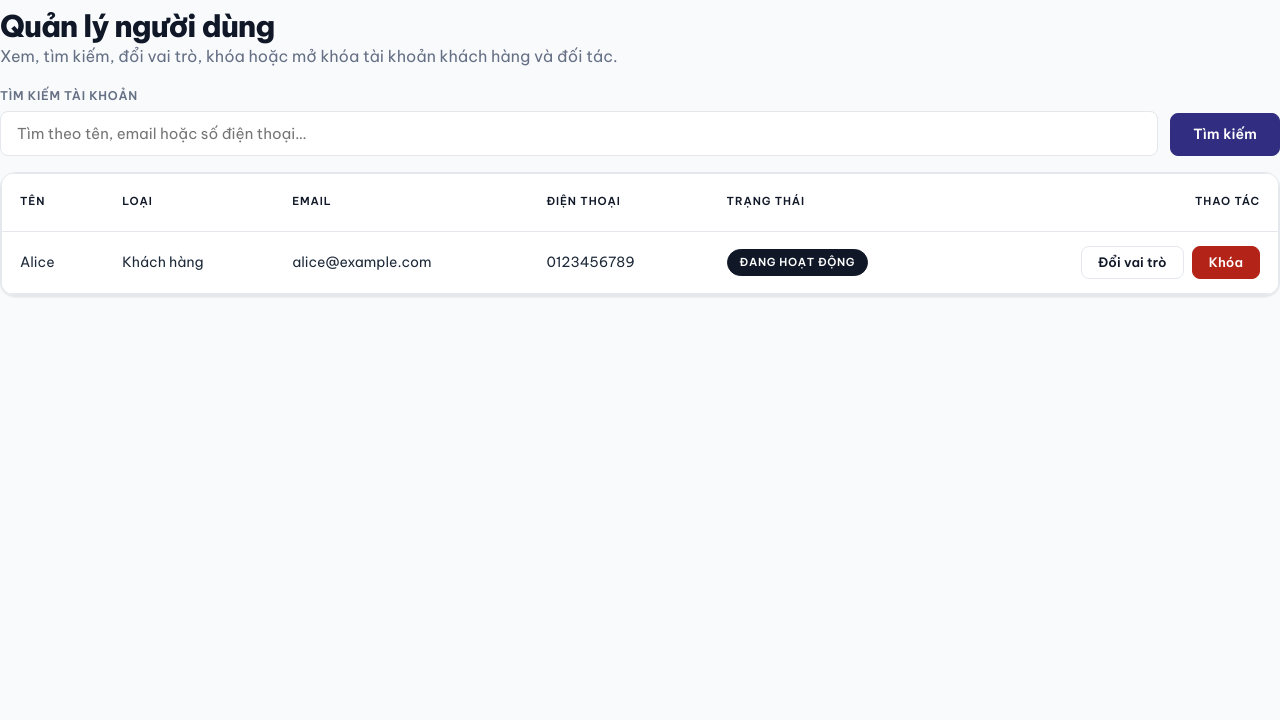
UsersPage › does not change role when the confirmation is cancelled
This screenshot has width=1280, height=720.
Expected: the text "Alice" is shown, [2,232,104,294]
Click the button with aria-label "đổi vai trò alice" at (1132, 263), box [1081,246,1184,279]
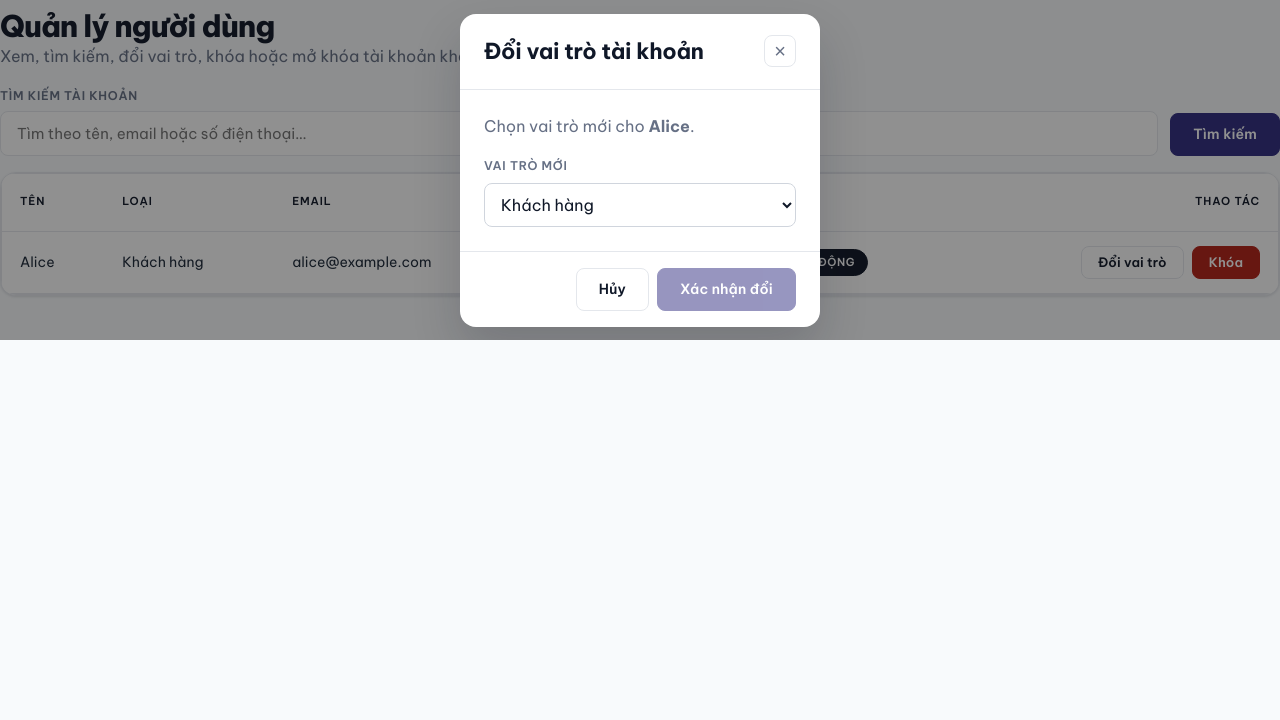
Select "Quản trị viên" in the dropdown labelled "Vai trò mới" at (640, 205), box [484,183,796,227]
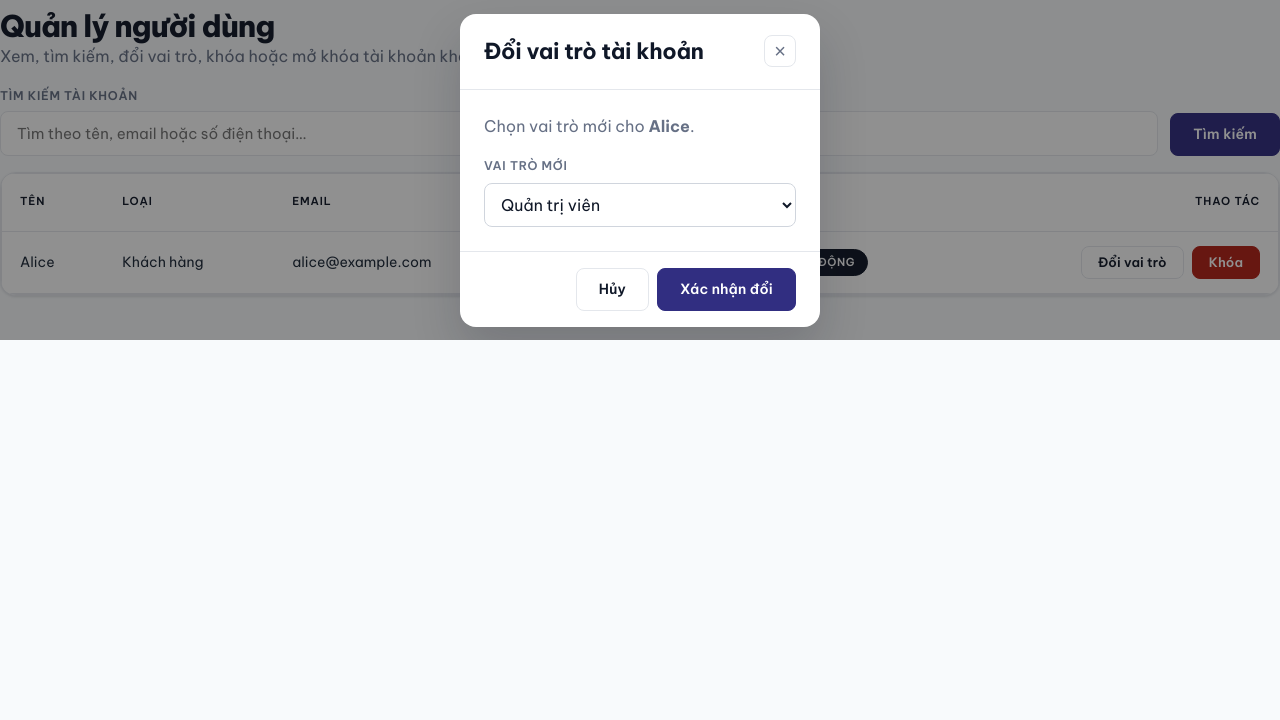
Click the button "Hủy" at (612, 289), box [576,268,649,311]
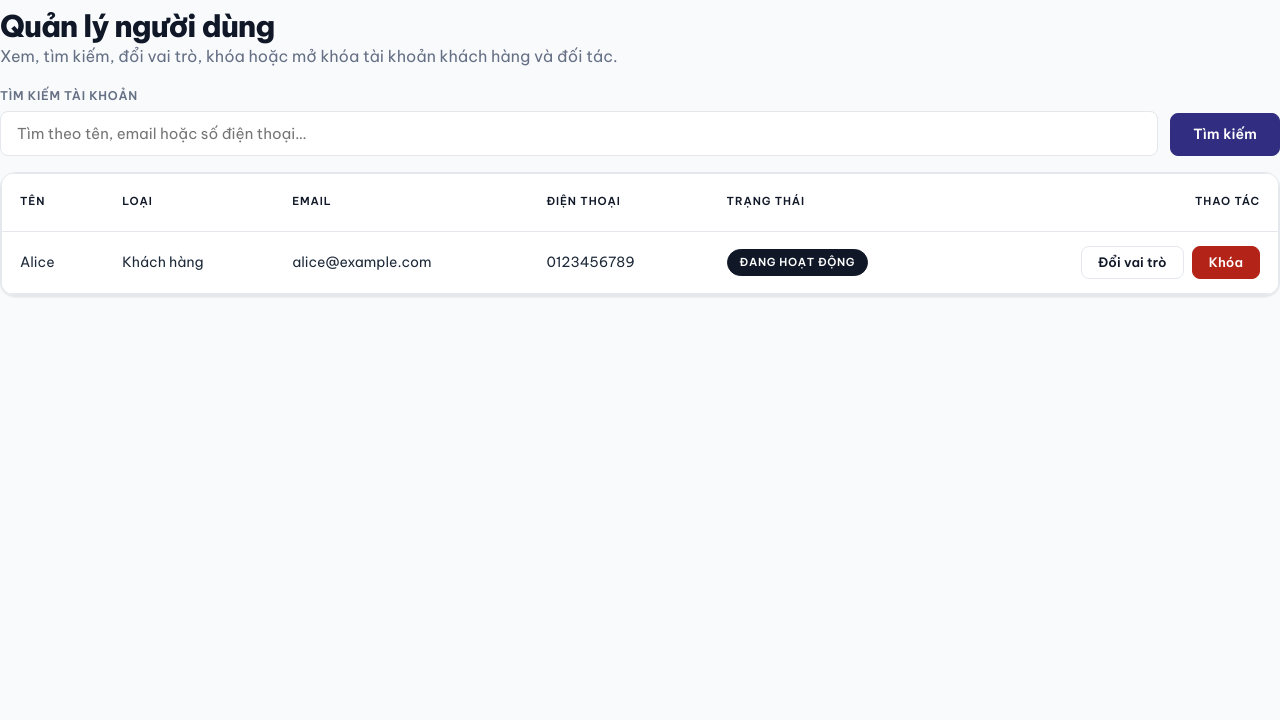
Expected: the dialog is gone
